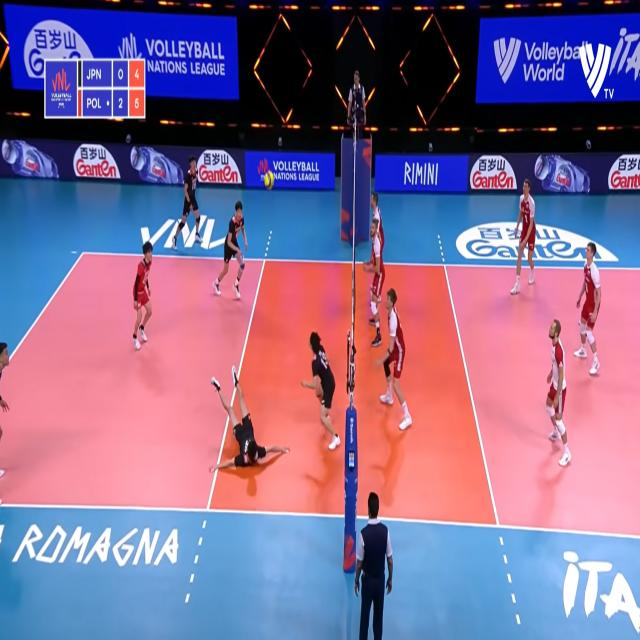player: (208, 374, 290, 470), (302, 328, 342, 459), (379, 288, 411, 438), (539, 320, 571, 460), (576, 240, 605, 378), (216, 196, 246, 311), (172, 158, 206, 241), (514, 180, 538, 294), (366, 217, 386, 349), (134, 240, 156, 352), (368, 193, 384, 260)
